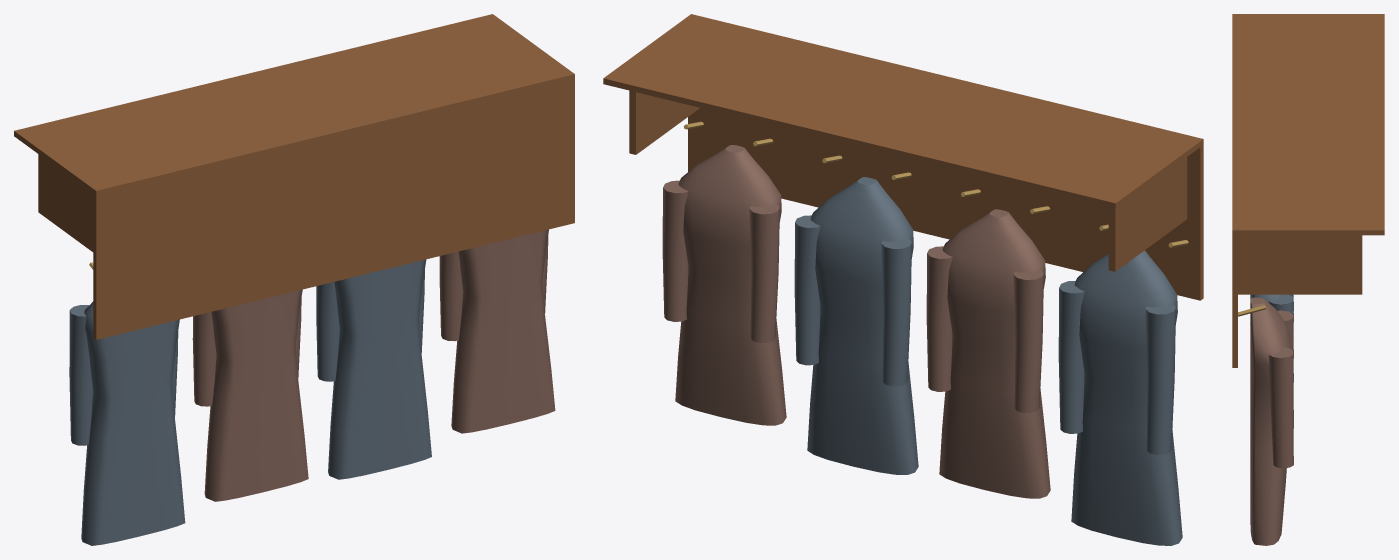
The model's file is parametric-wall-coat-rack-1st-1850x0550x1950.glb.
3 views of the same model, side by side, from view 1: azimuth 30°, elevation 25°; view 2: azimuth 150°, elevation 25°; view 3: azimuth 270°, elevation 25° (orthographic). The views are drawn at different scales.
Visible parts, largest first — view 1: backboard, hat-shelf, coat:0, coat:2, coat:1, coat:3, bracket:-1, coat-sleeve:0:-1, coat-sleeve:2:-1, coat-sleeve:1:-1, coat-sleeve:3:-1; view 2: hat-shelf, backboard, coat:2, coat:0, coat:1, coat:3, bracket:-1, coat-sleeve:0:-1, coat-sleeve:2:-1, coat-sleeve:1:-1, coat-sleeve:3:-1, coat-sleeve:0:1 (+4 smaller); view 3: hat-shelf, bracket:1, coat:3, coat-sleeve:3:1, backboard, coat-sleeve:2:1, coat-sleeve:3:-1.
Part boxes in pixels (x1,y1,x2,y2): backboard: [93, 79, 574, 339]; hat-shelf: [14, 14, 574, 196]; coat:0: [81, 301, 185, 545]; coat:2: [328, 259, 431, 479]; coat:1: [204, 289, 308, 501]; coat:3: [451, 229, 555, 433]; bracket:-1: [38, 154, 93, 251]; coat-sleeve:0:-1: [69, 305, 92, 445]; coat-sleeve:2:-1: [316, 282, 339, 381]; coat-sleeve:1:-1: [192, 312, 216, 406]; coat-sleeve:3:-1: [439, 251, 463, 341]; hat-shelf: [603, 14, 1203, 208]; backboard: [688, 108, 1203, 300]; coat:2: [807, 177, 918, 474]; coat:0: [1071, 250, 1182, 545]; coat:1: [939, 209, 1050, 498]; coat:3: [675, 145, 786, 425]; bracket:-1: [1108, 157, 1187, 271]; coat-sleeve:0:-1: [1145, 304, 1175, 454]; coat-sleeve:2:-1: [881, 239, 911, 386]; coat-sleeve:1:-1: [1013, 269, 1043, 412]; coat-sleeve:3:-1: [749, 204, 779, 342]; coat-sleeve:0:1: [1058, 281, 1084, 433]; hat-shelf: [1232, 14, 1384, 235]; bracket:1: [1238, 235, 1362, 294]; coat:3: [1250, 297, 1293, 545]; coat-sleeve:3:1: [1268, 347, 1293, 468]; backboard: [1232, 235, 1237, 367]; coat-sleeve:2:1: [1268, 294, 1293, 418]; coat-sleeve:3:-1: [1277, 310, 1293, 428].
Bounding box in the file's own units: 1.85 × 1.35 × 0.55.
